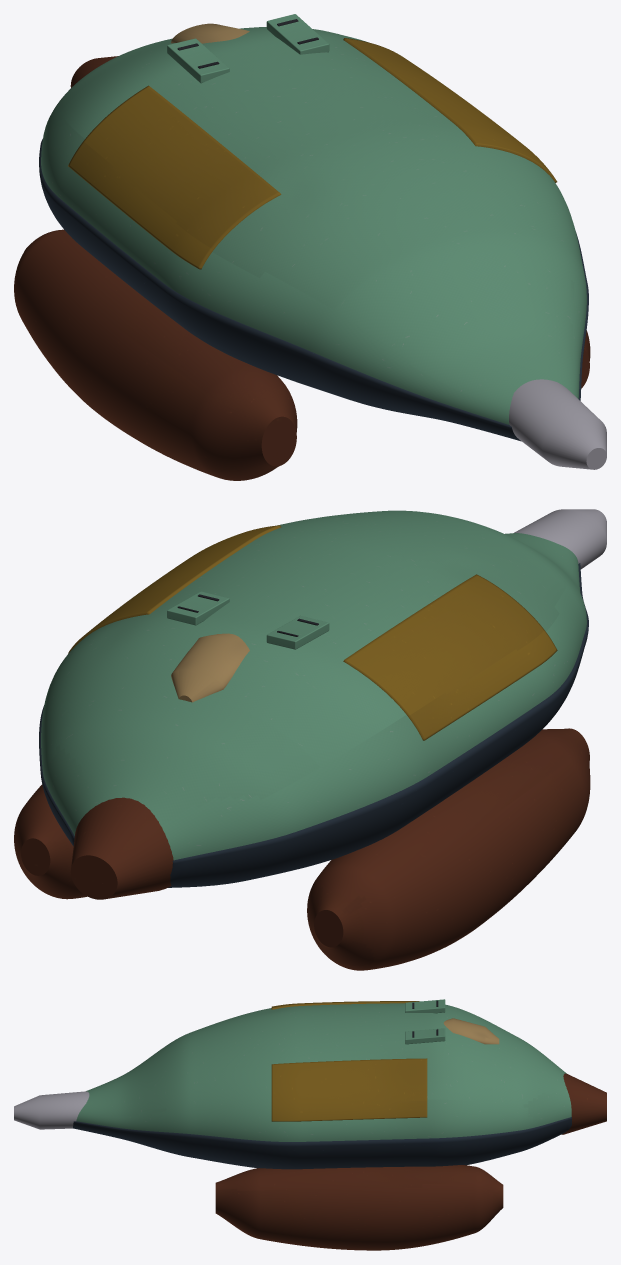
3 renders of one model, top to bottom at view 1: azimuth 30°, elevation 25°; view 2: azimuth 150°, elevation 25°; view 3: azimuth 270°, elevation 25°, orthographic. The views are drawn at different scales.
Parts seen in each view (by area): view 1: Delphini Assault rounded green hull, Delphini Assault brown ventral body -1, Delphini Assault gold upper patch -1, RI1C lower slate casing, Delphini Assault narrow fore projection, Delphini Assault gold upper patch 1, Delphini Assault green service cover -1, Delphini Assault green service cover 1, Delphini Assault small gold dorsal crest; view 2: Delphini Assault rounded green hull, Delphini Assault brown ventral body -1, Delphini Assault gold upper patch -1, RI1C lower slate casing, Delphini Assault brown tail detail, Delphini Assault brown ventral body 1, Delphini Assault gold upper patch 1, Delphini Assault small gold dorsal crest, Delphini Assault narrow fore projection, Delphini Assault green service cover -1, Delphini Assault green service cover 1; view 3: Delphini Assault rounded green hull, Delphini Assault brown ventral body 1, RI1C lower slate casing, Delphini Assault gold upper patch 1, Delphini Assault narrow fore projection, Delphini Assault brown tail detail, Delphini Assault small gold dorsal crest, Delphini Assault green service cover 1, Delphini Assault green service cover -1, Delphini Assault gold upper patch -1.
Boxes of the visible parts, <box> form: Delphini Assault rounded green hull: <box>41,27,586,424</box>; Delphini Assault brown ventral body -1: <box>14,229,297,480</box>; Delphini Assault gold upper patch -1: <box>68,85,281,269</box>; RI1C lower slate casing: <box>39,139,588,441</box>; Delphini Assault narrow fore projection: <box>509,379,606,469</box>; Delphini Assault gold upper patch 1: <box>343,38,557,182</box>; Delphini Assault green service cover -1: <box>167,38,229,83</box>; Delphini Assault green service cover 1: <box>266,14,329,54</box>; Delphini Assault small gold dorsal crest: <box>171,23,249,43</box>; Delphini Assault rounded green hull: <box>41,510,586,860</box>; Delphini Assault brown ventral body -1: <box>307,728,590,970</box>; Delphini Assault gold upper patch -1: <box>343,574,557,740</box>; RI1C lower slate casing: <box>39,563,588,887</box>; Delphini Assault brown tail detail: <box>70,797,173,899</box>; Delphini Assault brown ventral body 1: <box>14,784,87,899</box>; Delphini Assault gold upper patch 1: <box>68,525,281,653</box>; Delphini Assault small gold dorsal crest: <box>171,633,249,702</box>; Delphini Assault narrow fore projection: <box>513,509,606,569</box>; Delphini Assault green service cover -1: <box>266,615,329,649</box>; Delphini Assault green service cover 1: <box>167,591,229,625</box>; Delphini Assault rounded green hull: <box>76,1003,571,1141</box>; Delphini Assault brown ventral body 1: <box>215,1165,503,1250</box>; RI1C lower slate casing: <box>73,1117,571,1169</box>; Delphini Assault gold upper patch 1: <box>271,1058,427,1121</box>; Delphini Assault narrow fore projection: <box>14,1091,89,1129</box>; Delphini Assault brown tail detail: <box>562,1073,606,1134</box>; Delphini Assault small gold dorsal crest: <box>443,1018,499,1044</box>; Delphini Assault green service cover 1: <box>405,1028,445,1044</box>; Delphini Assault green service cover -1: <box>405,999,445,1013</box>; Delphini Assault gold upper patch -1: <box>271,1001,419,1009</box>.
Bounding box in the file's own units: 1.42 × 1.03 × 2.97.
7 materials, 5 textured.
